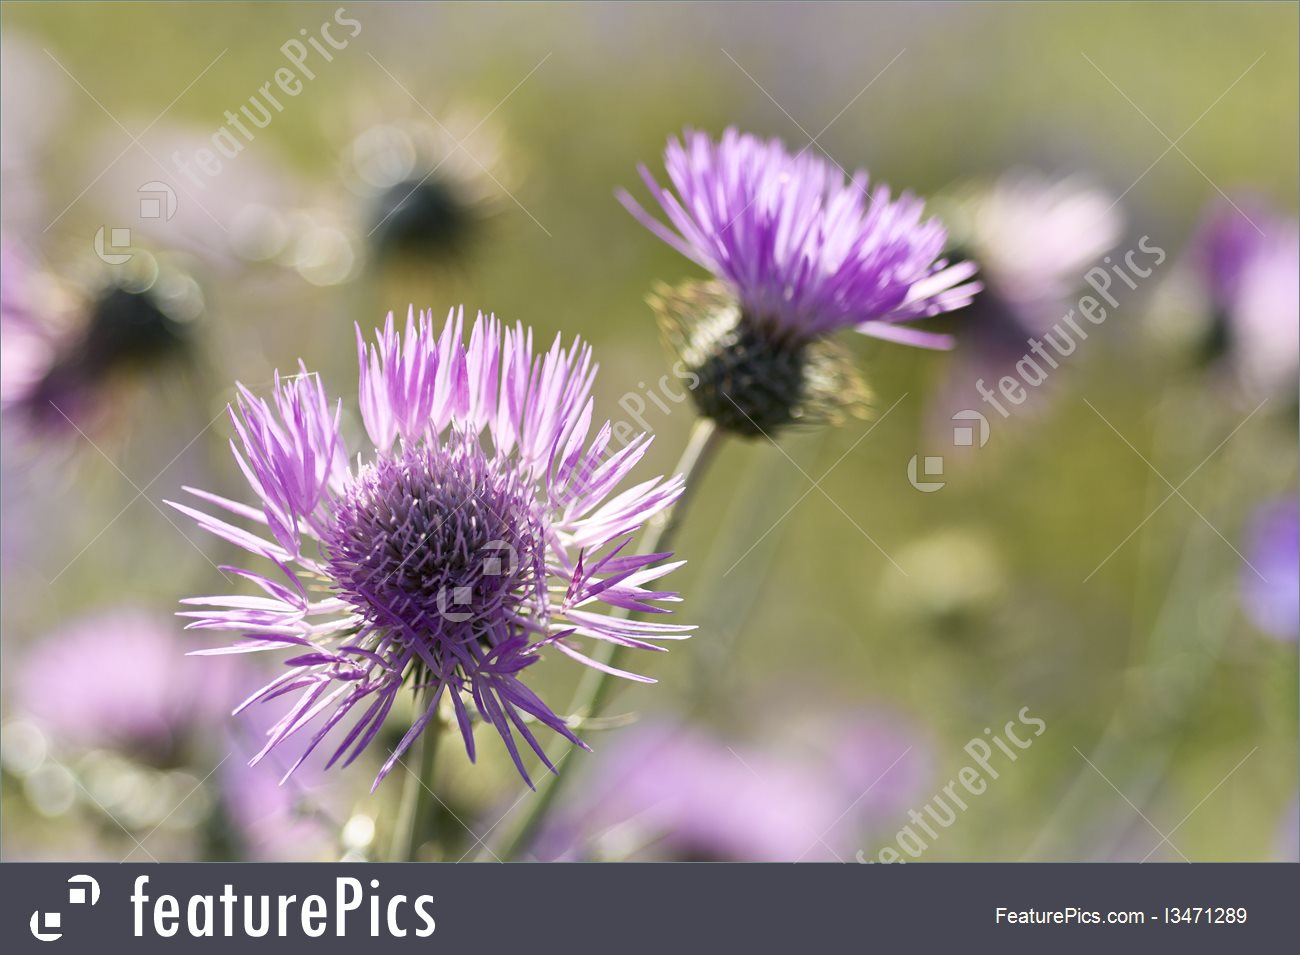thistle: (196, 304, 691, 771), (643, 104, 966, 460)
